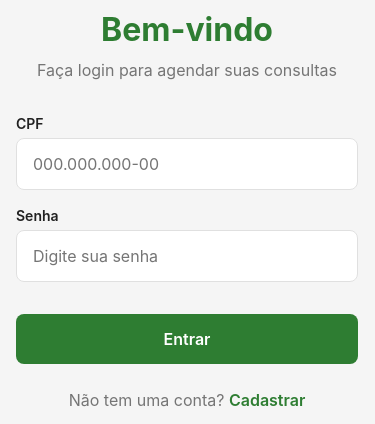
Test: LoginScreen › deve permitir digitar CPF e senha
Type "11144477735" into the field with placeholder "000.000.000-00" at (187, 164), box [17,139,357,189]
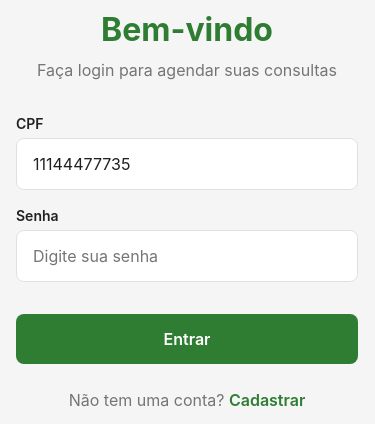
Type "senha123" into the password field with placeholder "Digite sua senha" at (187, 256), box [17,231,357,281]
Wait 300 ms
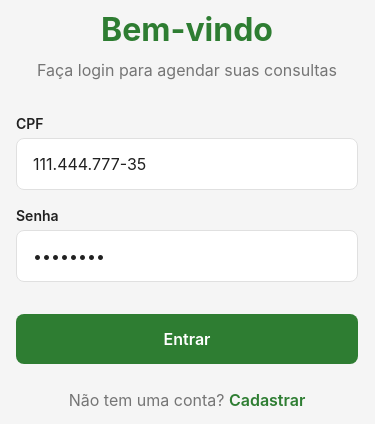
Now the field with placeholder "000.000.000-00" holds "111.444.777-35", box [17,139,357,189]
